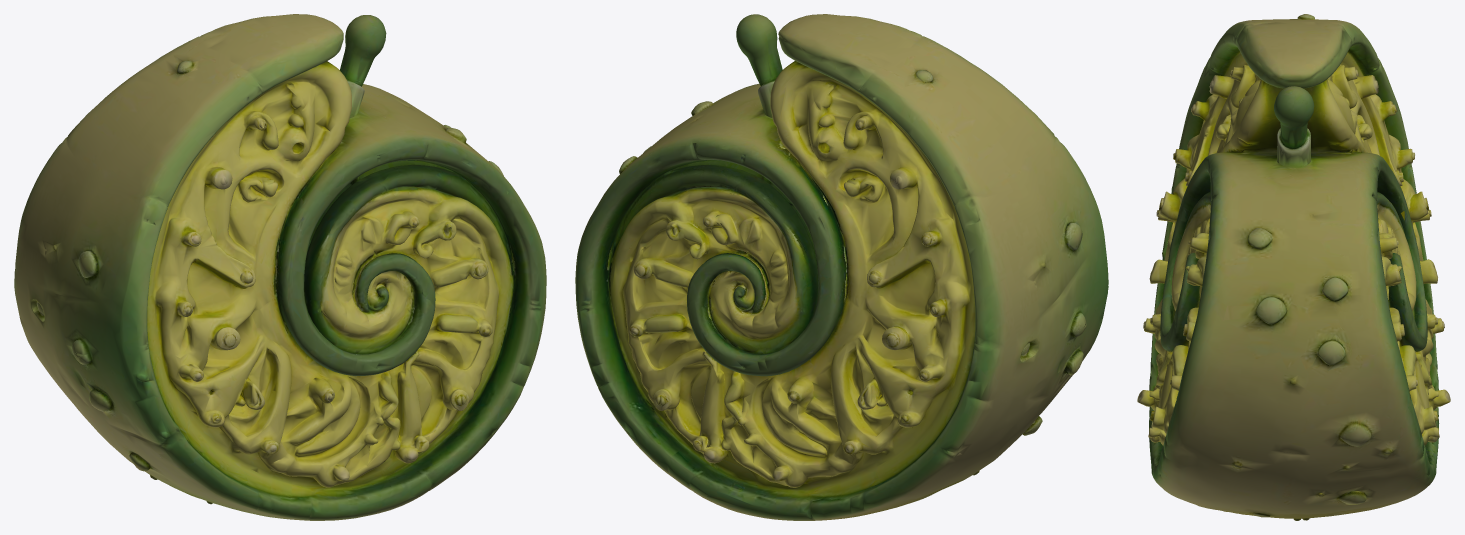
Rendered from dragon_dragon.glb.
3 views of the same model, side by side, from view 1: azimuth 30°, elevation 25°; view 2: azimuth 150°, elevation 25°; view 3: azimuth 270°, elevation 25° (orthographic). The views are drawn at different scales.
Parts seen in each view (by area): view 1: tripo_node_01e2c40b-5733-4b5d-a2bf-4edbec022e3e; view 2: tripo_node_01e2c40b-5733-4b5d-a2bf-4edbec022e3e; view 3: tripo_node_01e2c40b-5733-4b5d-a2bf-4edbec022e3e.
Part boxes in pixels (left/top/right/bottom): tripo_node_01e2c40b-5733-4b5d-a2bf-4edbec022e3e: left=14, top=14, right=546, bottom=520; tripo_node_01e2c40b-5733-4b5d-a2bf-4edbec022e3e: left=575, top=14, right=1108, bottom=520; tripo_node_01e2c40b-5733-4b5d-a2bf-4edbec022e3e: left=1137, top=14, right=1450, bottom=520.
Size of the model in its own units: 0.9797 by 0.9789 by 0.6237.
1 material, 1 textured.
